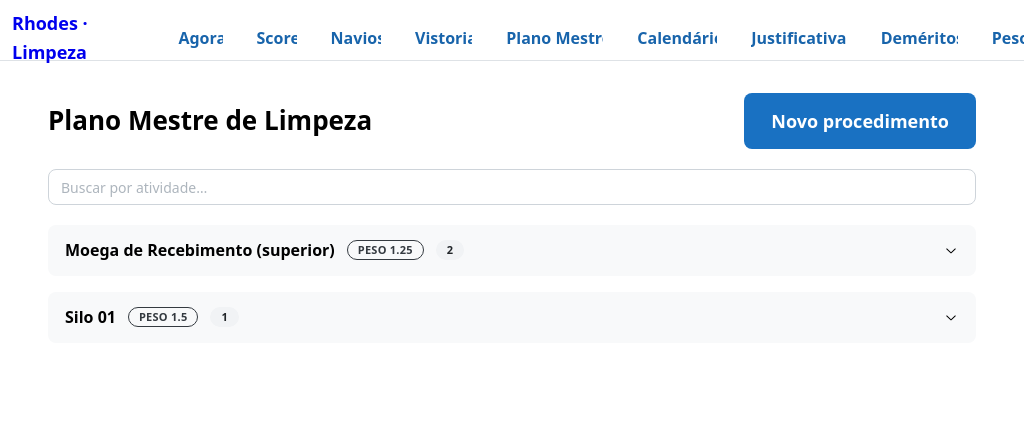
Scenario: Plano Mestre — lista › agrupa por área, mostra peso e ⚓ NAVIO nas híbridas
Expected: the text "Silo 01" is shown, [65, 305, 116, 330]
Expected: the text "peso 1.25" is shown, [358, 241, 413, 259]
// abre o accordion da moega para ver os itens
Click the text "Moega de Recebimento (superior)" at (200, 250), box [65, 238, 335, 263]
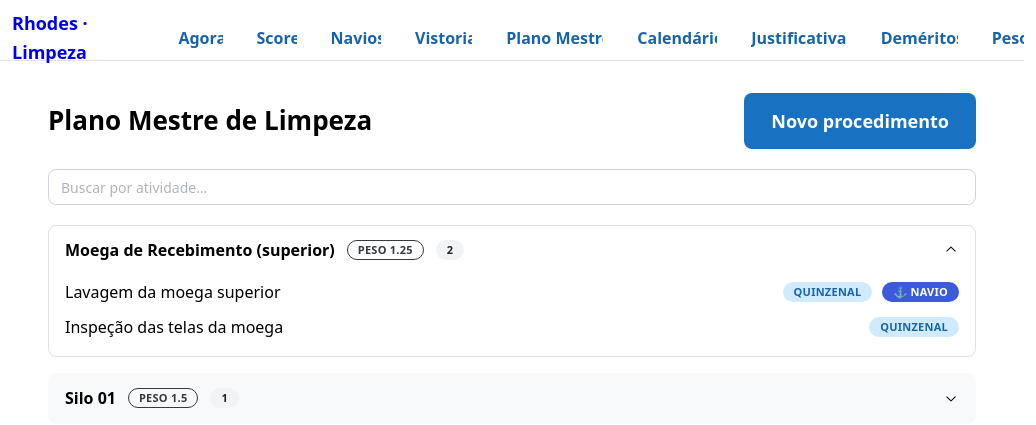
Now the text "Lavagem da moega superior" is shown, box [65, 280, 280, 305]
Now the text "⚓ NAVIO" is shown once, box [893, 283, 948, 301]
